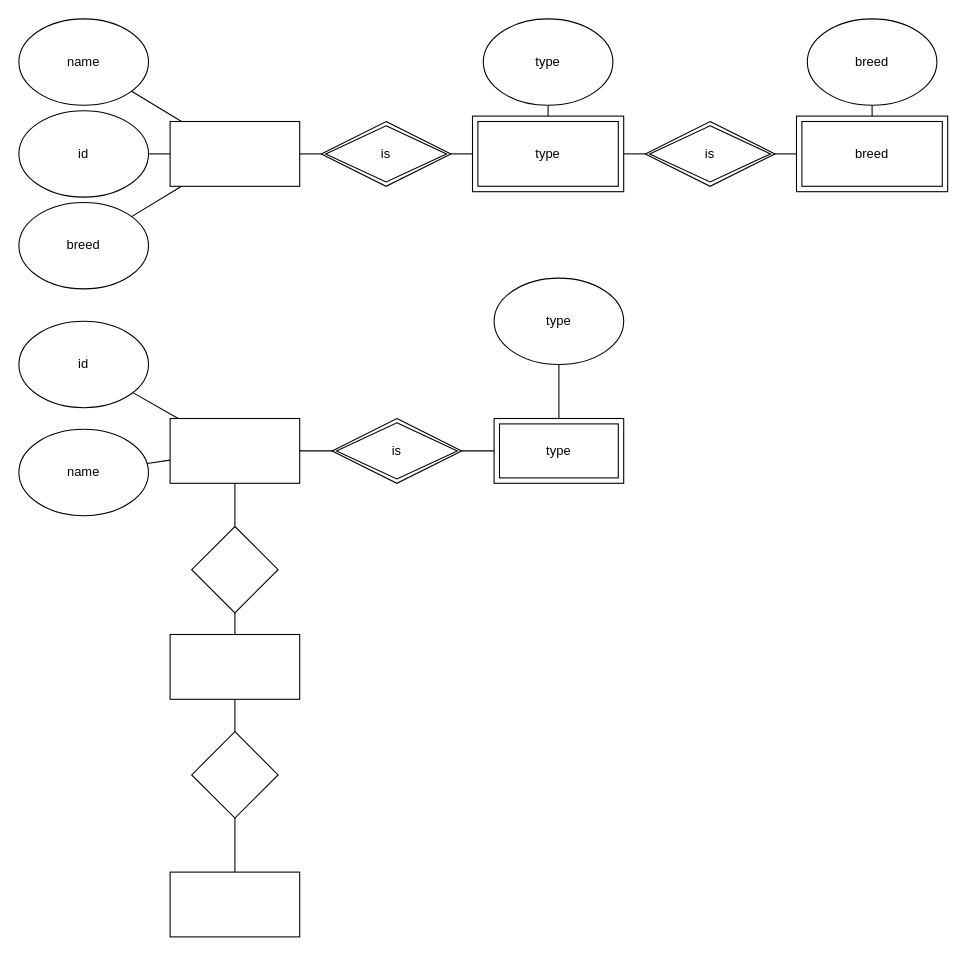
The diagram is 967 pixels wide and 956 high, and some of its shapes have lost their labels. Here are the shapes that lost their labels. From the top down, the centre of each, then its label:
point 234,153: pet
point 234,450: Customer
point 234,666: address
point 234,904: employe
